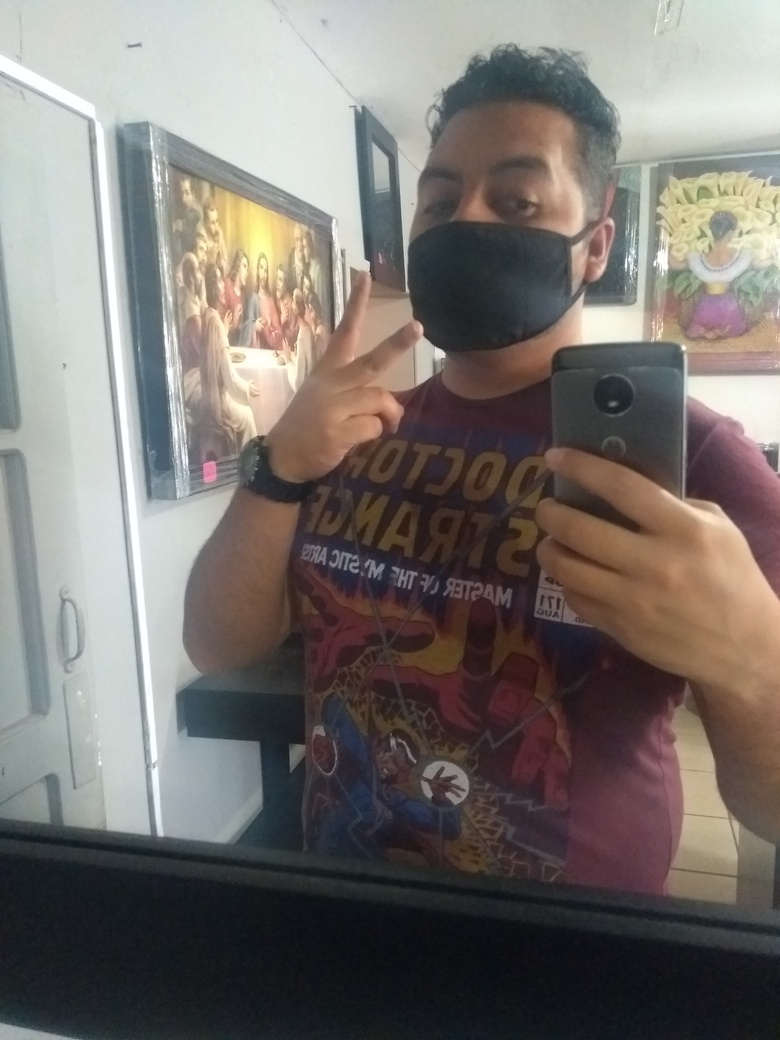Yoshi: (381, 42, 676, 404)
